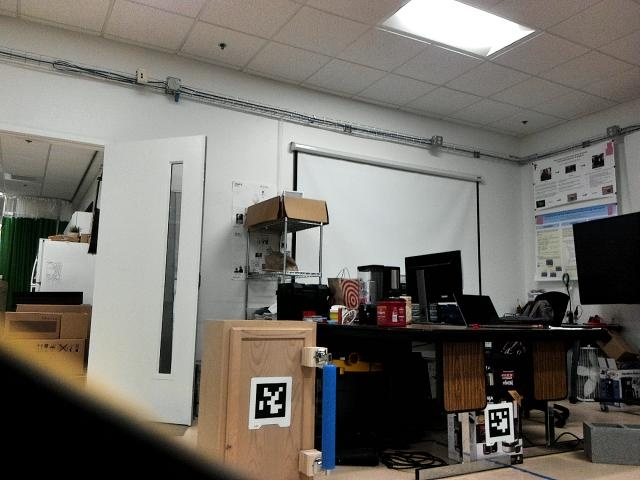noodle_handle: (315, 355, 341, 470)
